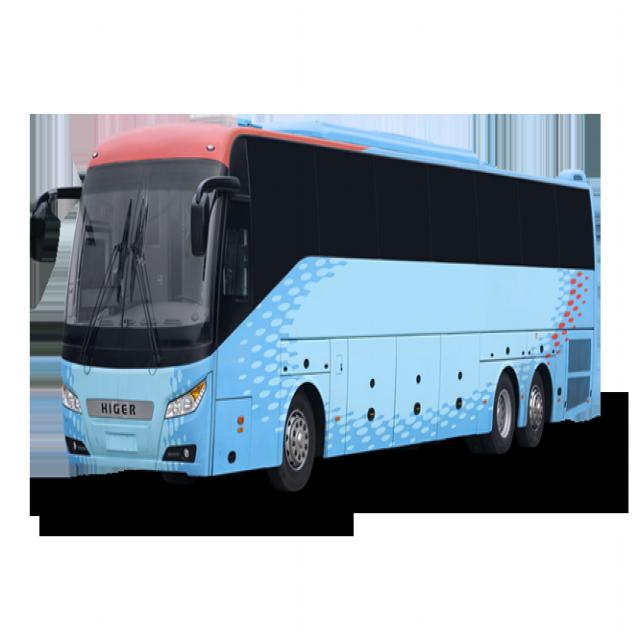bus: (34, 113, 604, 491)
